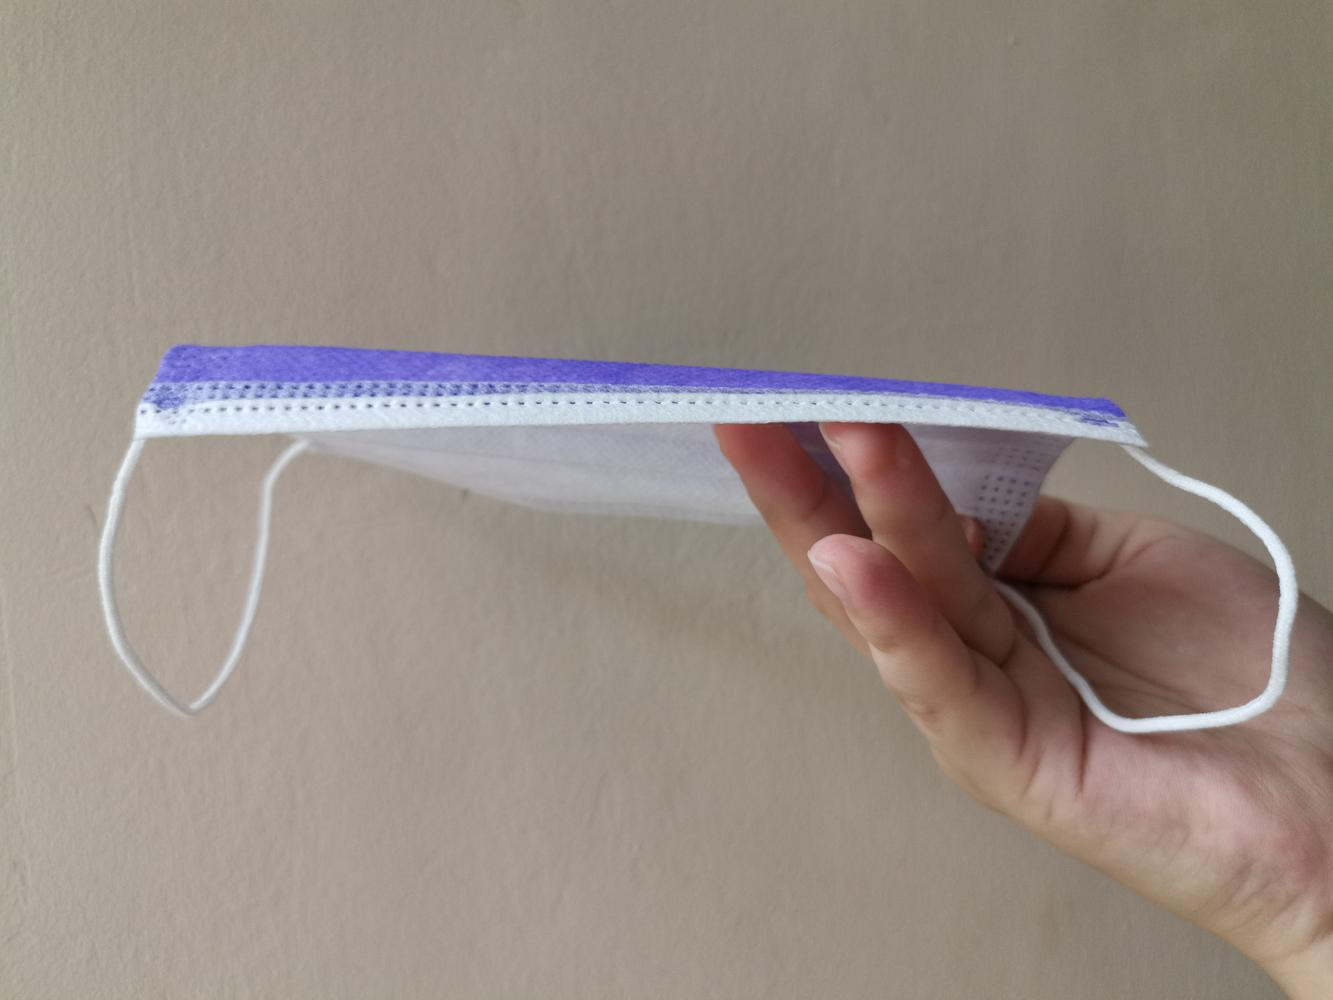Facemask: (101, 313, 1153, 588)
Undefined Object: (682, 388, 1333, 978)
